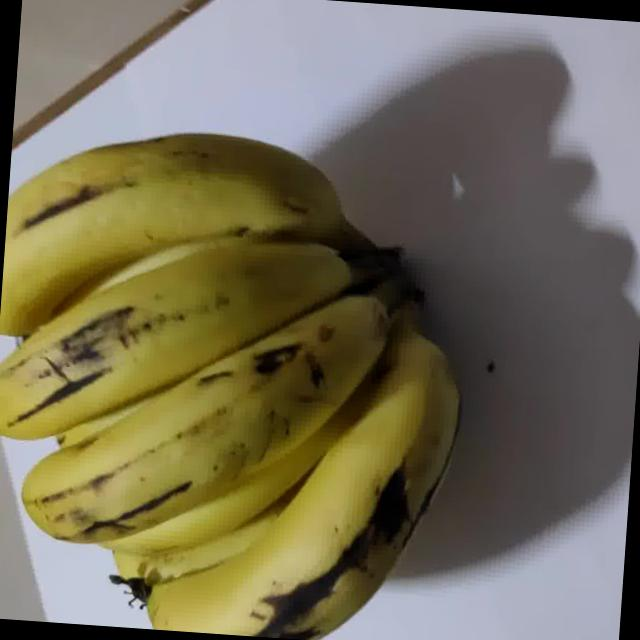banana_pacche: (0, 14, 566, 640)
